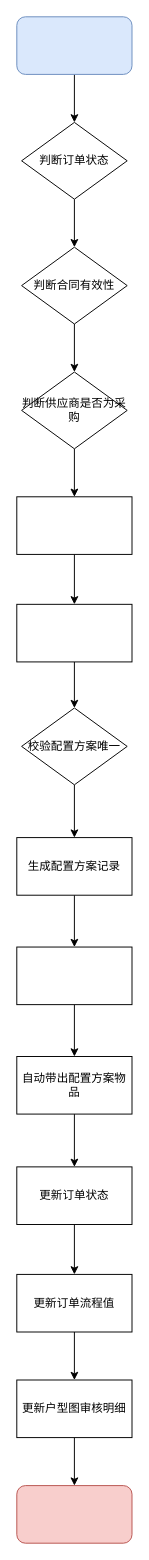
Some shapes in this 149 by 1560 pixel diagram are drawn without their labels. The shapes that lost their labels are listed below. From the top down, each one's box as (x1, y1, x2, y2) in pixels, then its label:
(16, 16, 132, 74): 生成配置方案
(16, 496, 132, 554): 修改房屋状态
(16, 603, 132, 662): 生成配置方案编号
(16, 946, 132, 1005): 保存配置方案选择供应商
(16, 1485, 132, 1543): 结束
